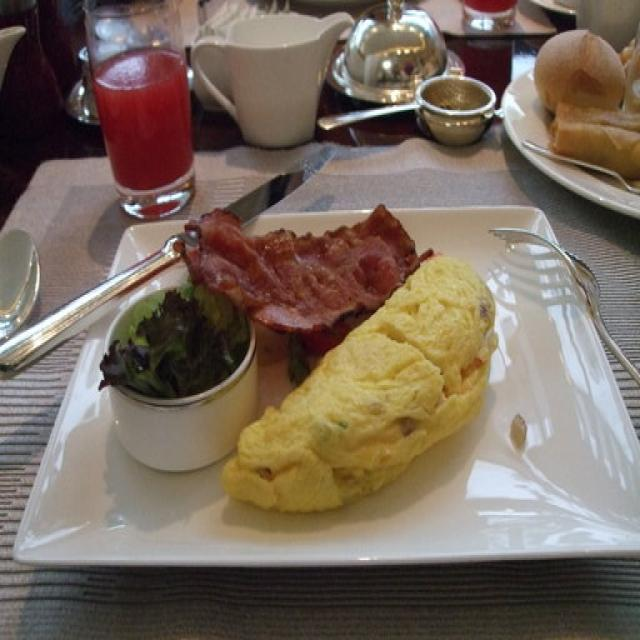telur_ayam_dadar: (221, 250, 499, 514)
